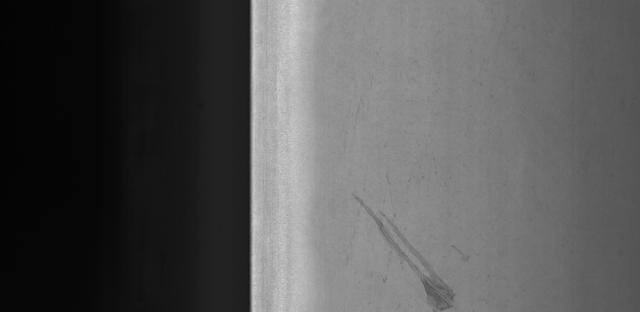water_spot: (348, 183, 492, 311)
